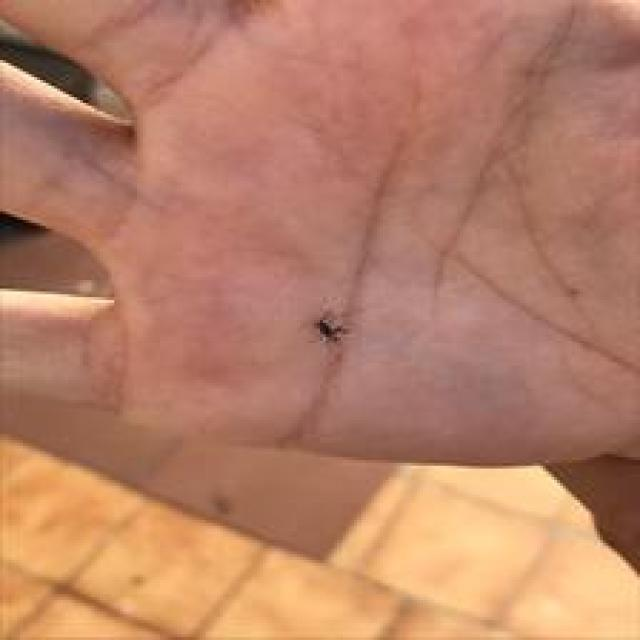Aedes albopictus: (313, 311, 350, 346)
